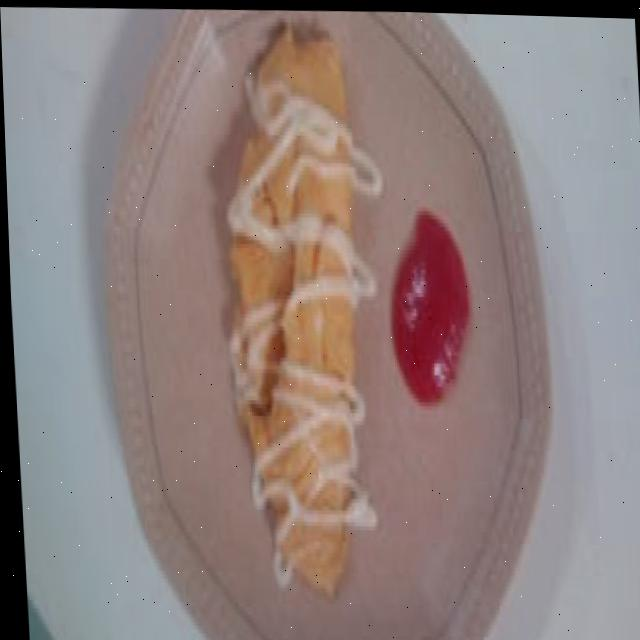鸡蛋料理: (205, 23, 386, 608)
